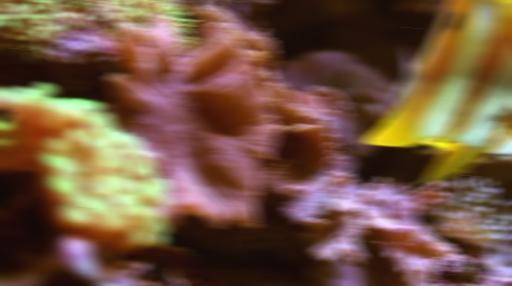Fish: (364, 0, 511, 184)
